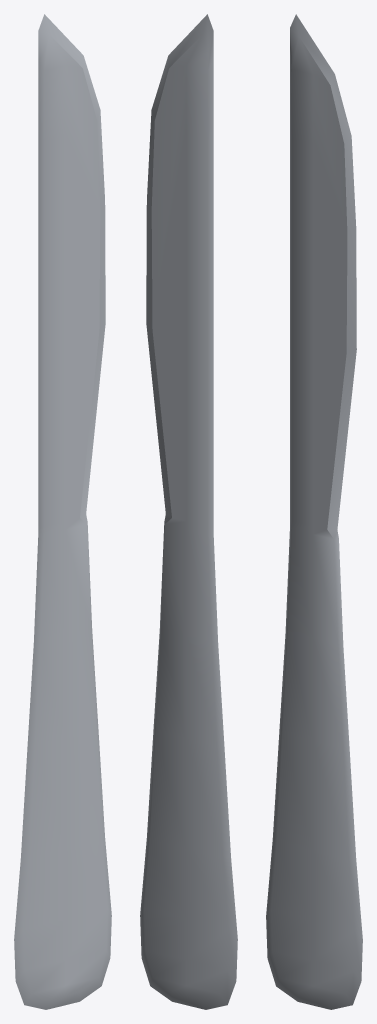
File: cooking_assets_butter_knife_bknbhbosy0.glb
The picture shows the model from 3 angles, left to right: view 1: azimuth 30°, elevation 25°; view 2: azimuth 150°, elevation 25°; view 3: azimuth 330°, elevation 25°; orthographic projection.
Parts seen in each view (by area): view 1: utensil_butter_knife.001_Cube.025; view 2: utensil_butter_knife.001_Cube.025; view 3: utensil_butter_knife.001_Cube.025.
Part boxes in pixels (x1,y1,x2,y2): utensil_butter_knife.001_Cube.025: (14, 14, 111, 1009); utensil_butter_knife.001_Cube.025: (140, 14, 237, 1009); utensil_butter_knife.001_Cube.025: (266, 14, 362, 1009).
Bounding box in the file's own units: 0.4843 × 4.72 × 0.0347.
1 material, 1 textured.
